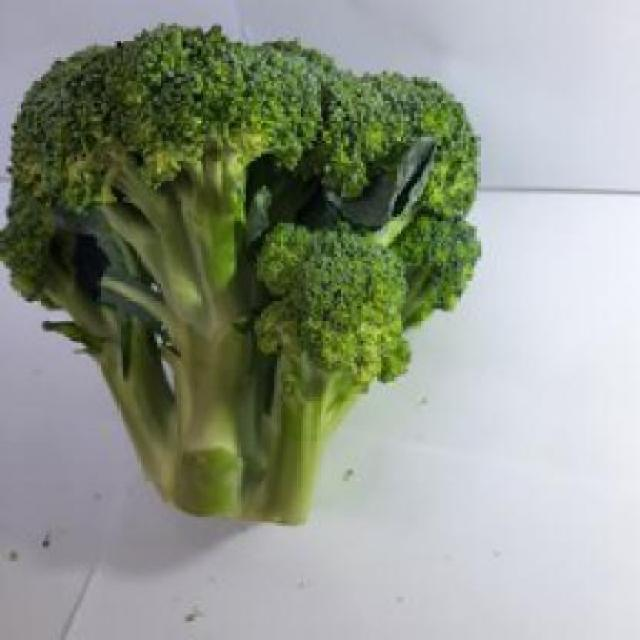broccoli: (11, 28, 487, 526)
